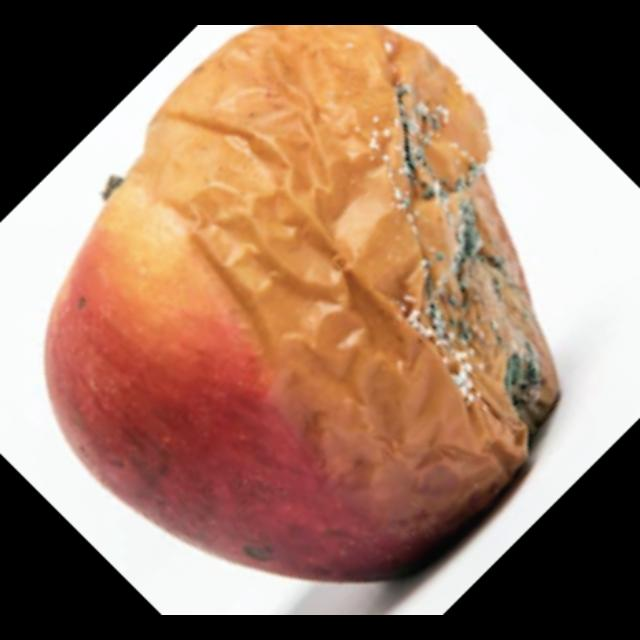Apel Tidak Segar: (44, 29, 556, 578)
